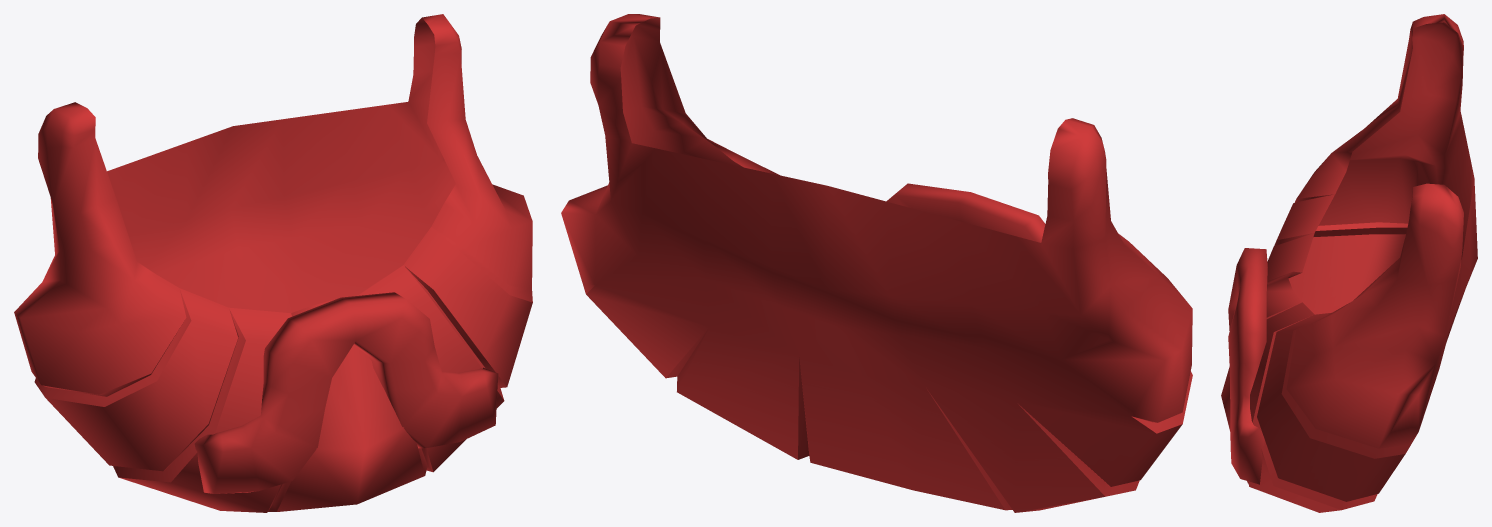
The model's file is Beard_Red_17.fbx.
The picture shows the model from 3 angles, left to right: view 1: azimuth 30°, elevation 25°; view 2: azimuth 150°, elevation 25°; view 3: azimuth 270°, elevation 25°; orthographic projection. The views are drawn at different scales.
Visible parts, largest first — view 1: Beard_Red_17; view 2: Beard_Red_17; view 3: Beard_Red_17.
Boxes of the visible parts, x1,y1,x2,y2 form: Beard_Red_17: (14,14,532,512); Beard_Red_17: (561,14,1192,512); Beard_Red_17: (1221,14,1477,512).
Bounding box in the file's own units: 64.08 × 47.7 × 29.49.
